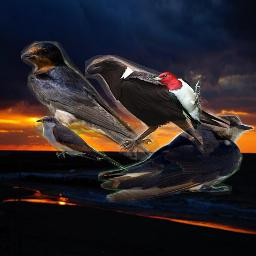Crow: (85, 55, 230, 156)
Cuckoo: (35, 116, 128, 172)
Swallow: (21, 41, 163, 164), (98, 115, 254, 202)
Woodpecker: (149, 72, 204, 130)
